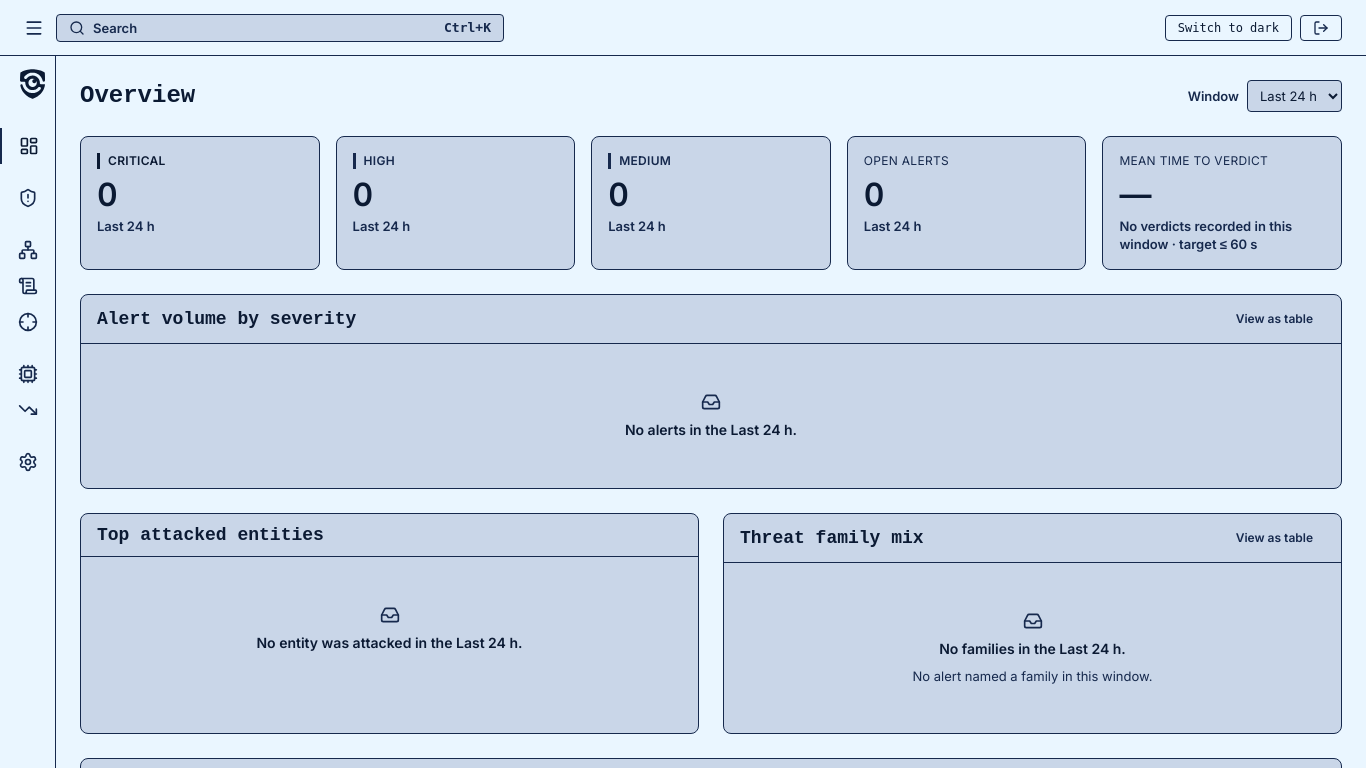
Test case: routing and shell › opens the palette from anywhere in the shell and runs what it names (T-411)
Type keys "{Control>}k{/Control}"
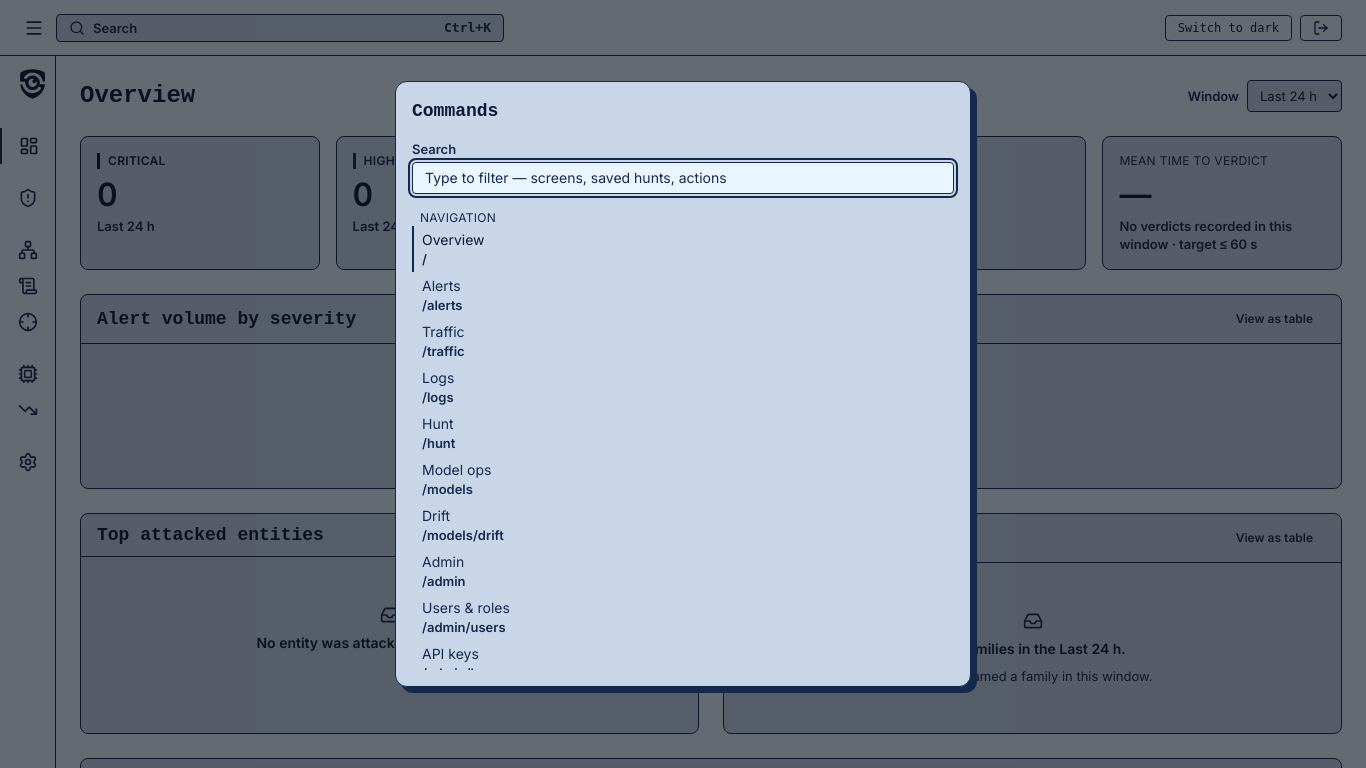
Type "hunt" into the dropdown labelled "Search". click: (683, 178)
box: [412, 162, 954, 194]
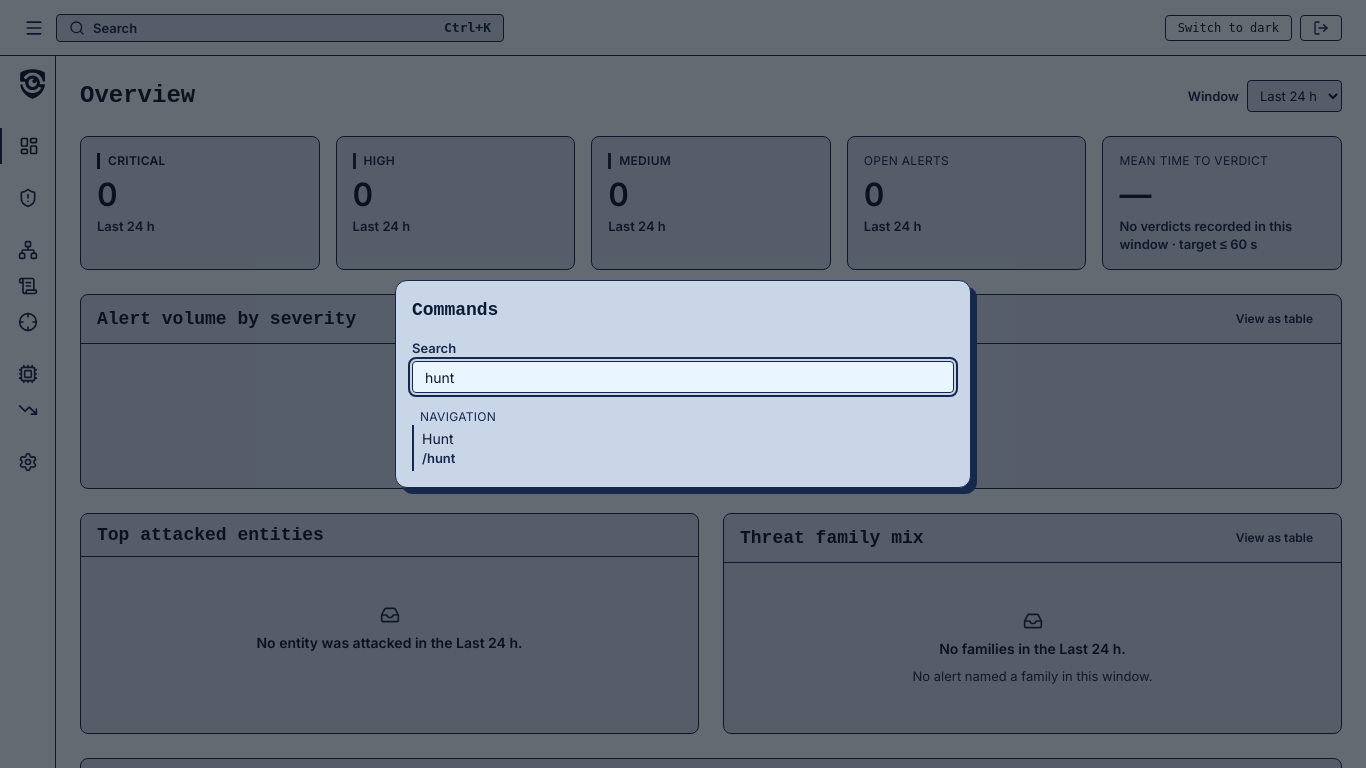
Press Enter
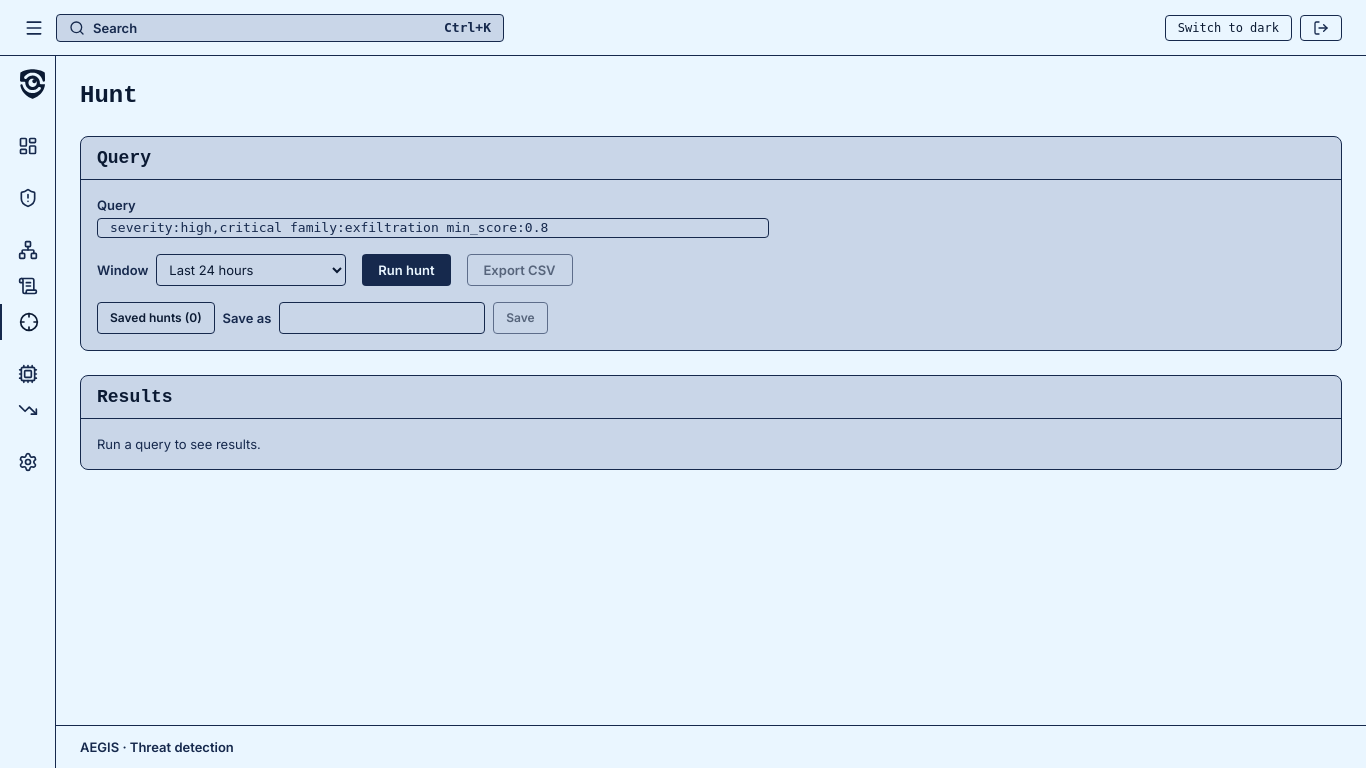
Check: the heading "Hunt" is shown, box [80, 82, 138, 109]
Check: the text "Run a query to see results." is shown, box [97, 436, 261, 452]
Check: the dialog is gone
